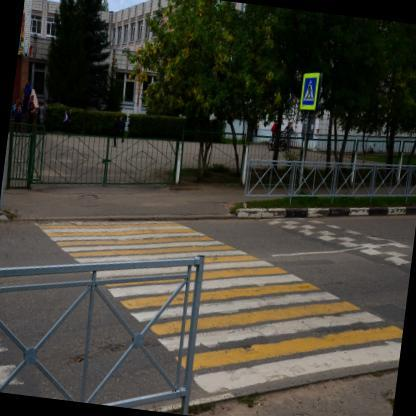road_sign: (299, 73, 320, 110)
